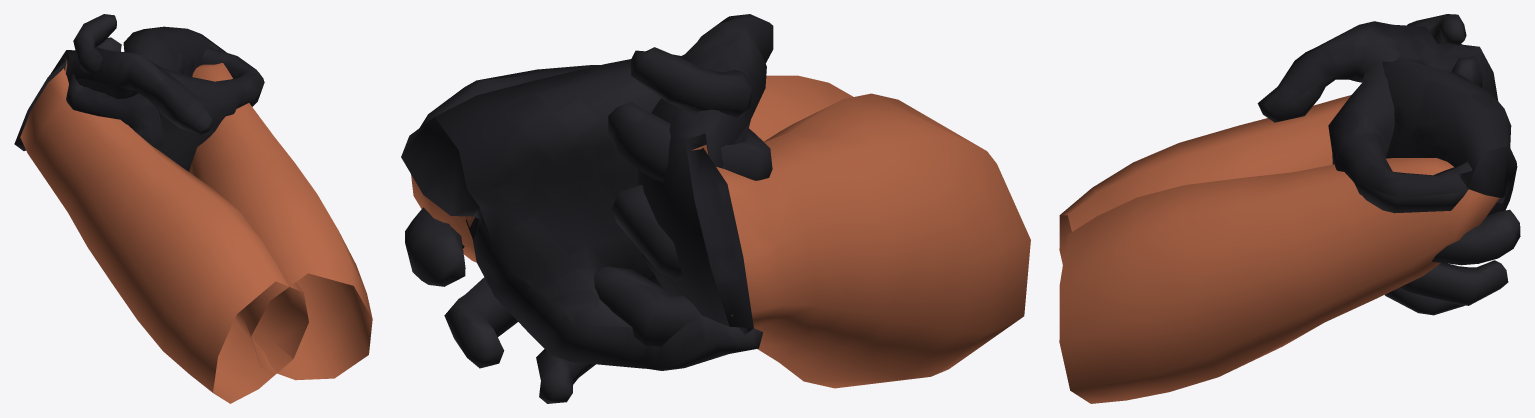
Rendered from maos_volante.glb.
3 views of the same model, side by side, from view 1: azimuth 30°, elevation 25°; view 2: azimuth 150°, elevation 25°; view 3: azimuth 270°, elevation 25° (orthographic). The views are drawn at different scales.
Parts seen in each view (by area): view 1: MaoEsq, MaoDir; view 2: MaoEsq, MaoDir; view 3: MaoDir, MaoEsq.
Boxes of the visible parts, left/top/right/bottom form: MaoEsq: left=14, top=46, right=308, bottom=403; MaoDir: left=66, top=14, right=372, bottom=380; MaoEsq: left=405, top=14, right=1030, bottom=403; MaoDir: left=401, top=47, right=853, bottom=370; MaoDir: left=1059, top=14, right=1517, bottom=403; MaoEsq: left=1059, top=21, right=1520, bottom=315.
Bounding box in the file's own units: 0.1522 × 0.1892 × 0.236.
Materials: 2 (2 with a texture image).
